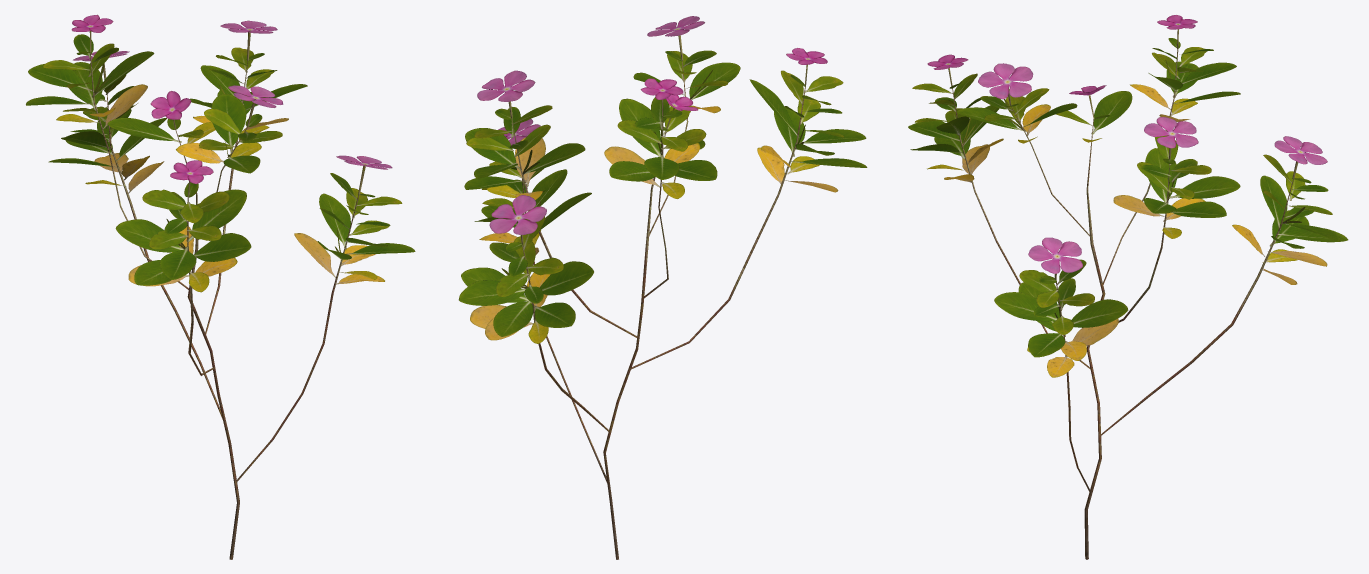
Rendered from periwinkle_plant_01.gltf.
3 views of the same model, side by side, from view 1: azimuth 30°, elevation 25°; view 2: azimuth 150°, elevation 25°; view 3: azimuth 270°, elevation 25° (orthographic). The views are drawn at different scales.
Parts seen in each view (by area): view 1: periwinkle_plant_01__x; view 2: periwinkle_plant_01__x; view 3: periwinkle_plant_01__x.
Boxes of the visible parts, x1,y1,x2,y2 form: periwinkle_plant_01__x: [26, 14, 415, 559]; periwinkle_plant_01__x: [458, 16, 867, 559]; periwinkle_plant_01__x: [908, 15, 1348, 559].
Size of the model in its own units: 0.2689 by 0.3974 by 0.3283.
Materials: 1 (1 with a texture image).
